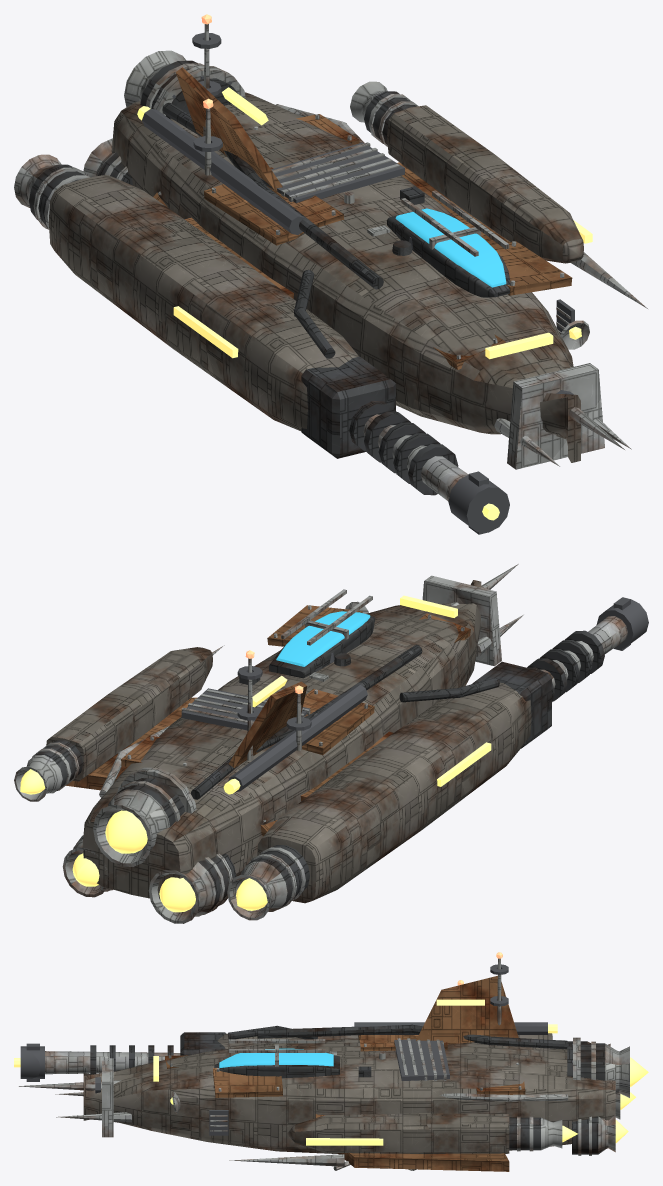
The model's file is scrap_raider_wreck.glb.
The picture shows the model from 3 angles, top to bottom: view 1: azimuth 30°, elevation 25°; view 2: azimuth 150°, elevation 25°; view 3: azimuth 270°, elevation 25°; orthographic projection. The views are drawn at different scales.
Visible parts, largest first — view 1: scrap_raider_wreck_03, scrap_raider_wreck_08, scrap_raider_wreck_02, scrap_raider_wreck_01, scrap_raider_wreck_00, scrap_raider_wreck_05, scrap_raider_wreck_09, scrap_raider_wreck_06, scrap_raider_wreck_07, scrap_raider_wreck_04; view 2: scrap_raider_wreck_02, scrap_raider_wreck_05, scrap_raider_wreck_03, scrap_raider_wreck_08, scrap_raider_wreck_01, scrap_raider_wreck_00, scrap_raider_wreck_04, scrap_raider_wreck_06, scrap_raider_wreck_09, scrap_raider_wreck_07; view 3: scrap_raider_wreck_05, scrap_raider_wreck_01, scrap_raider_wreck_06, scrap_raider_wreck_09, scrap_raider_wreck_04, scrap_raider_wreck_02, scrap_raider_wreck_00, scrap_raider_wreck_03, scrap_raider_wreck_07, scrap_raider_wreck_08.
Boxes of the visible parts, box(x1,y1,x2,y2) form: scrap_raider_wreck_03: box(105, 173, 362, 382); scrap_raider_wreck_08: box(197, 241, 432, 450); scrap_raider_wreck_02: box(14, 50, 223, 299); scrap_raider_wreck_01: box(314, 186, 572, 322); scrap_raider_wreck_00: box(323, 336, 525, 534); scrap_raider_wreck_05: box(209, 66, 488, 210); scrap_raider_wreck_09: box(411, 298, 604, 460); scrap_raider_wreck_06: box(416, 150, 647, 308); scrap_raider_wreck_07: box(484, 366, 631, 532); scrap_raider_wreck_04: box(175, 14, 300, 188); scrap_raider_wreck_02: box(76, 758, 376, 923); scrap_raider_wreck_05: box(14, 688, 261, 894); scrap_raider_wreck_03: box(259, 680, 464, 868); scrap_raider_wreck_08: box(375, 639, 546, 798); scrap_raider_wreck_01: box(222, 589, 431, 698); scrap_raider_wreck_00: box(445, 592, 648, 731); scrap_raider_wreck_04: box(227, 650, 315, 765); scrap_raider_wreck_06: box(105, 645, 224, 740); scrap_raider_wreck_09: box(345, 578, 486, 663); scrap_raider_wreck_07: box(428, 564, 633, 636); scrap_raider_wreck_05: box(389, 1043, 624, 1171); scrap_raider_wreck_01: box(210, 1027, 394, 1152); scrap_raider_wreck_06: box(229, 1083, 444, 1170); scrap_raider_wreck_09: box(97, 1052, 249, 1147); scrap_raider_wreck_04: box(421, 952, 517, 1050); scrap_raider_wreck_02: box(489, 1022, 648, 1136); scrap_raider_wreck_00: box(20, 1032, 200, 1081); scrap_raider_wreck_03: box(328, 1022, 432, 1065); scrap_raider_wreck_07: box(14, 1046, 115, 1120); scrap_raider_wreck_08: box(193, 1025, 337, 1053).
Size of the model in its own units: 3.01 by 1.97 by 6.57.
Materials: 9 (5 with a texture image).
